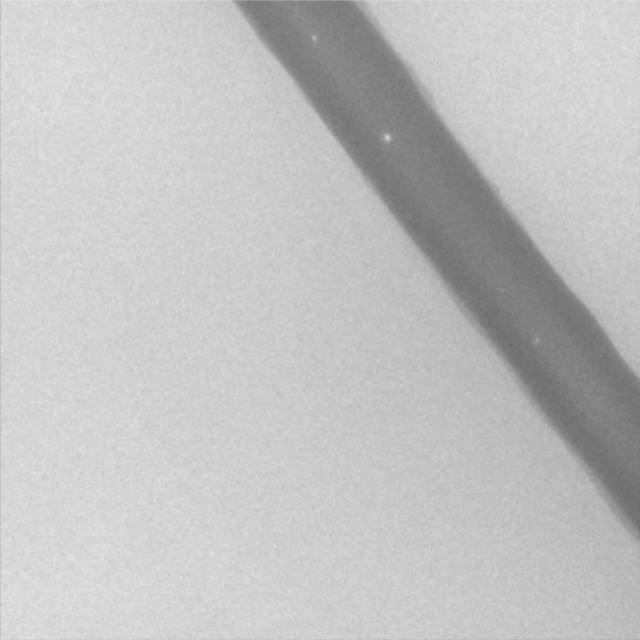air hole: (381, 131, 391, 143), (309, 31, 317, 41)
